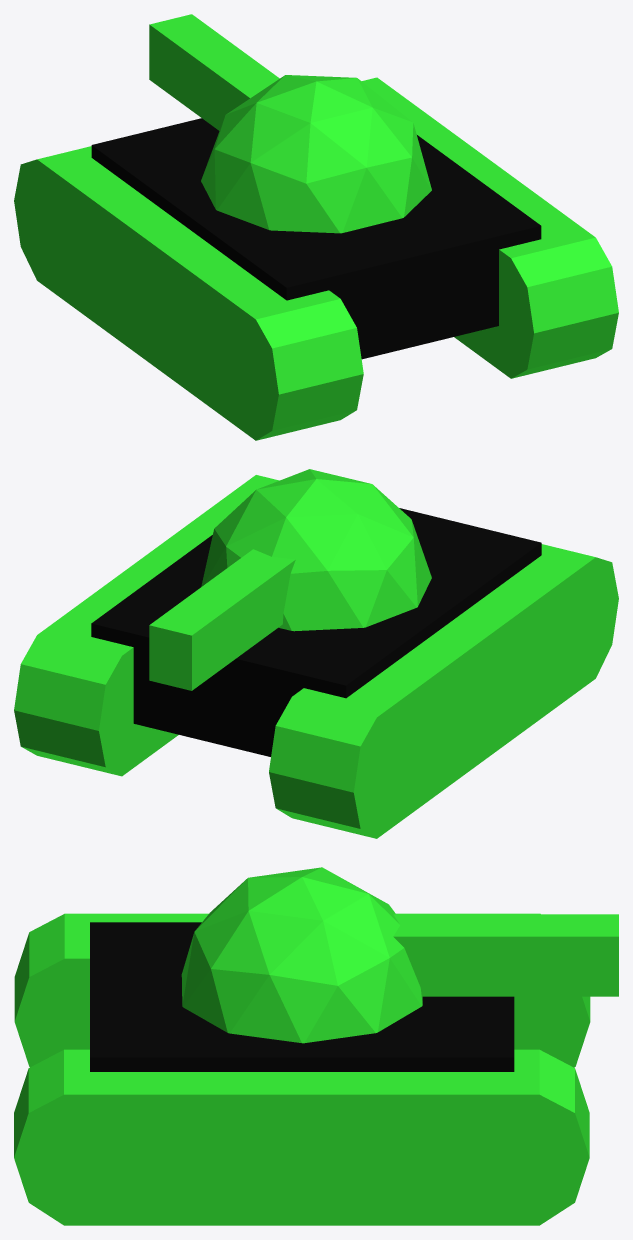
File: mediumUnit.fbx
The picture shows the model from 3 angles, top to bottom: view 1: azimuth 30°, elevation 25°; view 2: azimuth 150°, elevation 25°; view 3: azimuth 270°, elevation 25°; orthographic projection. The views are drawn at different scales.
Parts seen in each view (by area): view 1: Icosphere; view 2: Icosphere; view 3: Icosphere.
Boxes of the visible parts, x1=… form: Icosphere: x1=14, y1=14, x2=618, y2=440; Icosphere: x1=14, y1=469, x2=618, y2=838; Icosphere: x1=14, y1=867, x2=618, y2=1225.
Size of the model in its own units: 5.06 by 3.39 by 7.18.
1 material, 1 textured.
